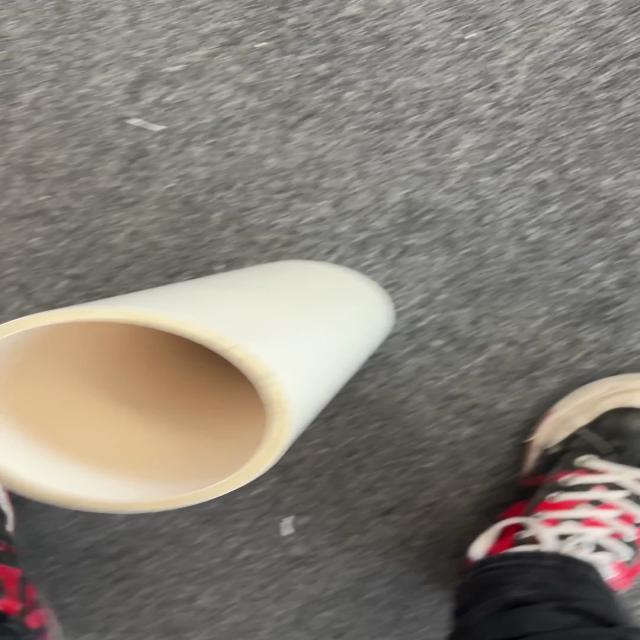Coral: (1, 258, 397, 514)
